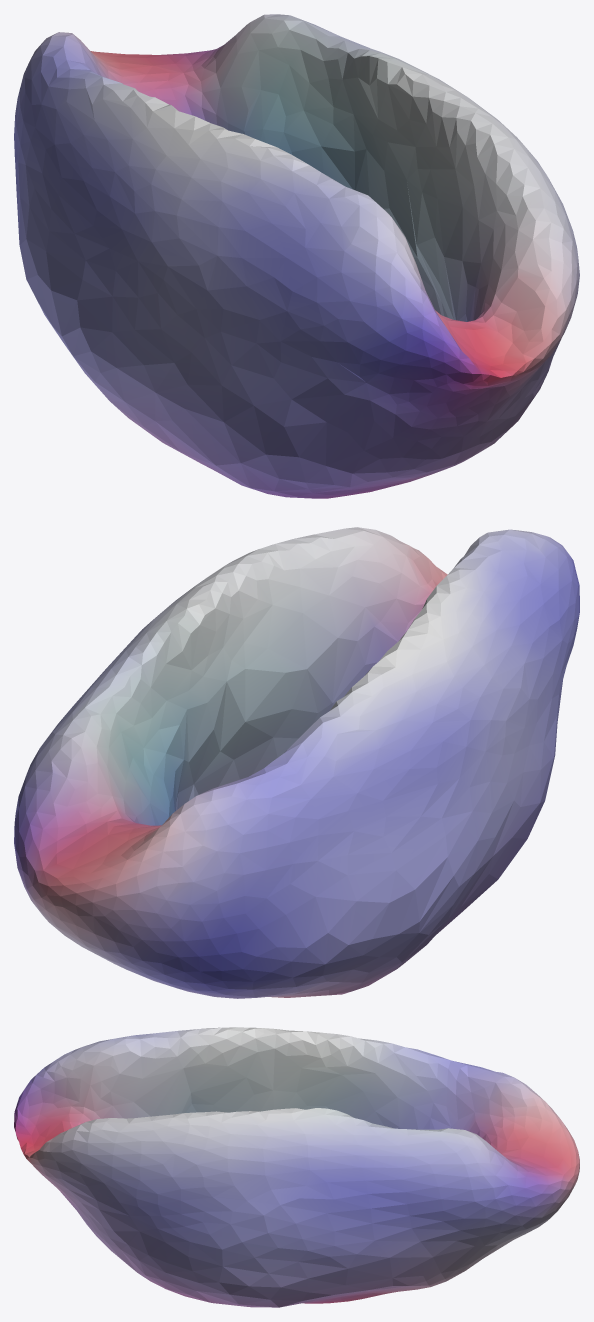
The model's file is FloatingIsland_Fall.fbx.
3 views of the same model, one above another, from view 1: azimuth 30°, elevation 25°; view 2: azimuth 150°, elevation 25°; view 3: azimuth 270°, elevation 25° (orthographic). The views are drawn at different scales.
Visible parts, largest first — view 1: Sphere; view 2: Sphere; view 3: Sphere.
Part boxes in pixels (left/top/right/bottom): Sphere: left=14, top=14, right=579, bottom=498; Sphere: left=14, top=527, right=579, bottom=998; Sphere: left=14, top=1027, right=579, bottom=1307.
Bounding box in the file's own units: 263 × 242 × 514.
